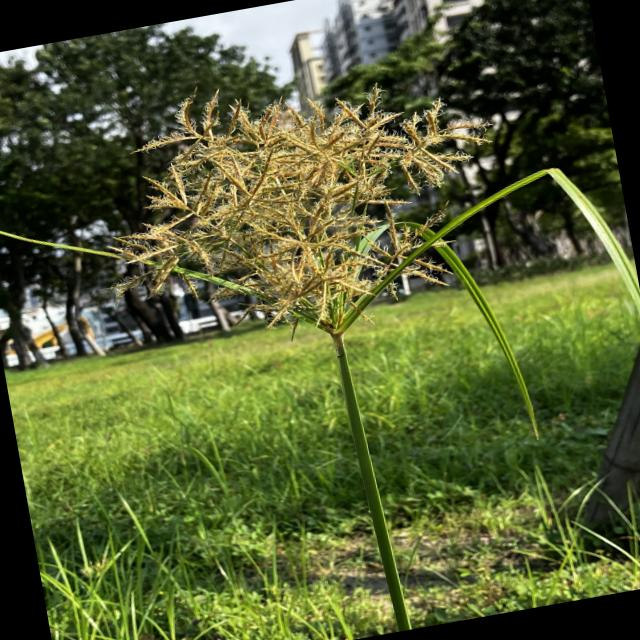cyperus: (71, 26, 528, 374)
